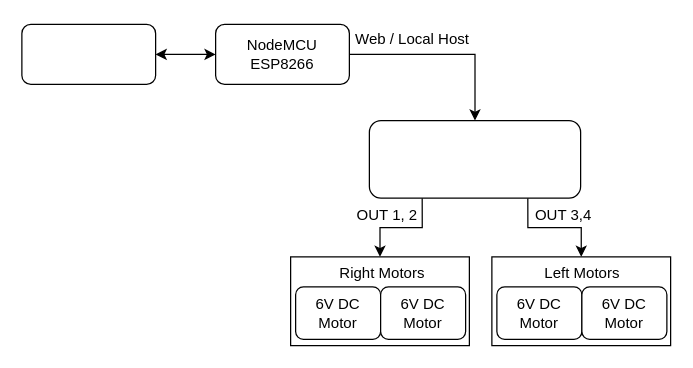
Some shapes in this 693 by 368 pixel diagram are drawn without their labels. The shapes that lost their labels are listed below. From the top down, each one's box as (x1, y1, x2, y2) in pixels, then its label:
(21, 23, 156, 84): ATMEGA
(368, 119, 581, 198): L298 Motor Driver
